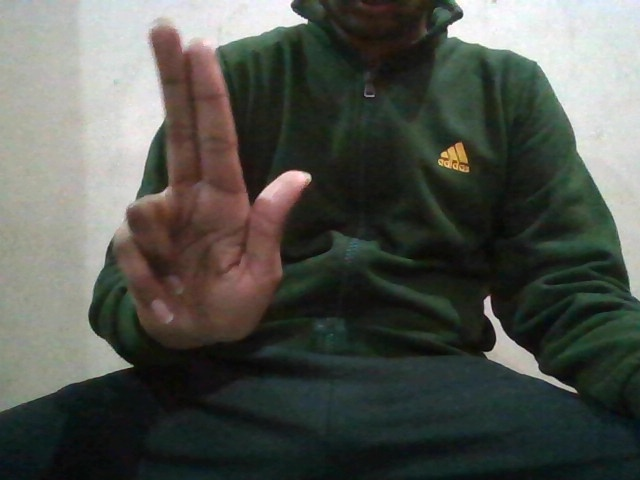K: (121, 19, 310, 352)
